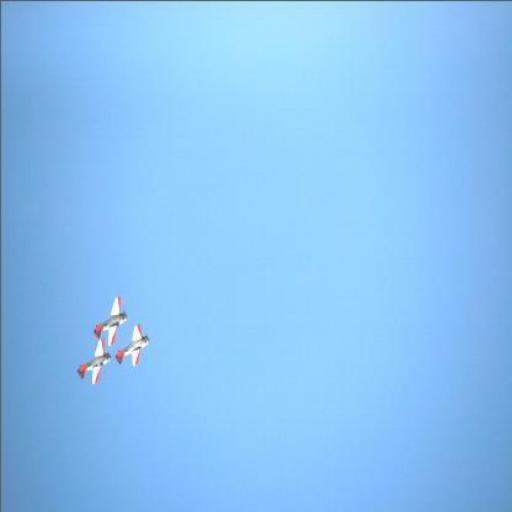aircraft: (92, 294, 128, 346), (77, 334, 111, 384), (115, 323, 149, 367)
